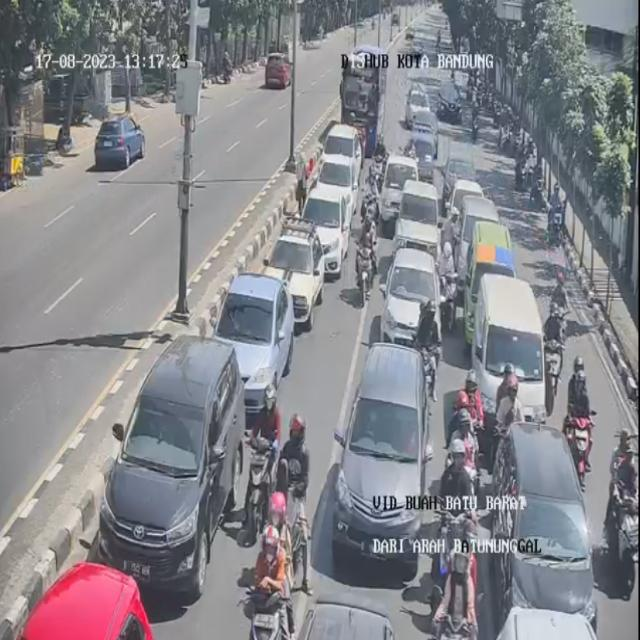bus: (341, 43, 389, 156)
cars: (88, 337, 245, 604), (332, 344, 434, 580), (494, 422, 603, 629), (472, 274, 547, 421), (215, 272, 294, 411), (17, 562, 153, 639), (264, 216, 325, 329), (296, 590, 431, 640), (465, 220, 517, 343), (379, 247, 443, 346), (391, 179, 452, 276), (304, 182, 350, 275), (455, 194, 499, 281), (499, 607, 598, 640), (382, 152, 420, 228), (318, 151, 359, 221), (446, 179, 484, 243), (324, 123, 363, 182), (416, 95, 438, 150)
motorcycle: (243, 494, 294, 640), (54, 88, 88, 223), (433, 550, 477, 640), (448, 372, 484, 477), (414, 298, 442, 400), (535, 261, 559, 371), (437, 239, 465, 330), (495, 372, 524, 459), (439, 439, 475, 499), (441, 501, 476, 555), (459, 117, 478, 180), (549, 181, 566, 246), (492, 161, 507, 213)
